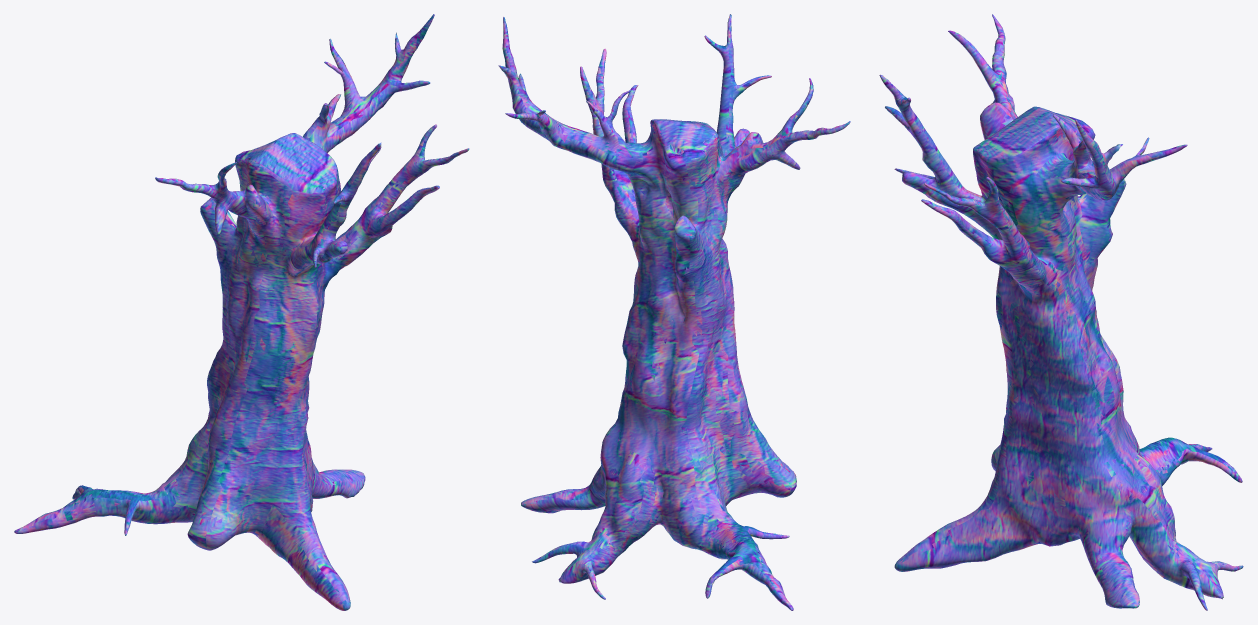
3 views of the same model, side by side, from view 1: azimuth 30°, elevation 25°; view 2: azimuth 150°, elevation 25°; view 3: azimuth 270°, elevation 25° (orthographic). The views are drawn at different scales.
Visible parts, largest first — view 1: treeuv; view 2: treeuv; view 3: treeuv.
Part boxes in pixels (x1,y1,x2,y2): treeuv: (14, 14, 469, 610); treeuv: (498, 14, 850, 610); treeuv: (879, 14, 1243, 610).
Size of the model in its own units: 1.28 by 1.71 by 1.03.
